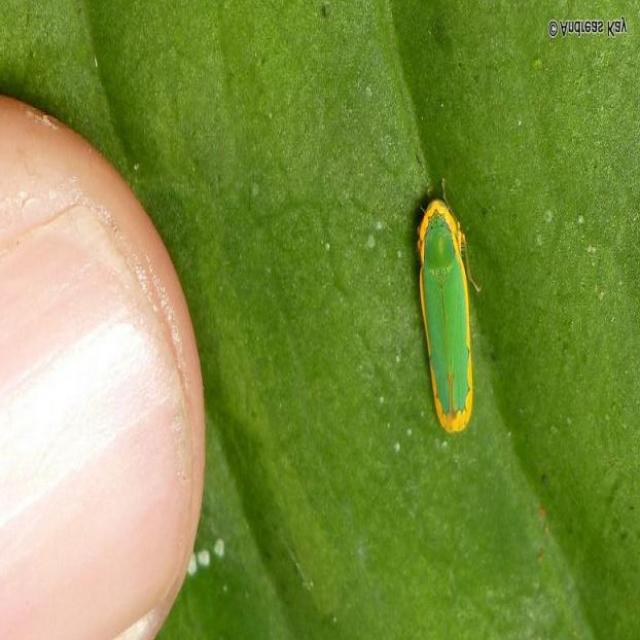green leaf hopper: (418, 199, 472, 433)
